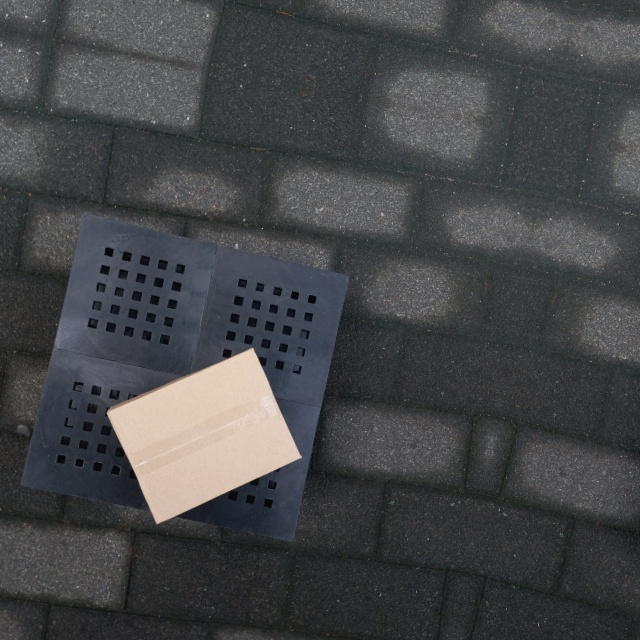box: (105, 344, 303, 529)
pallet: (6, 203, 370, 546)
